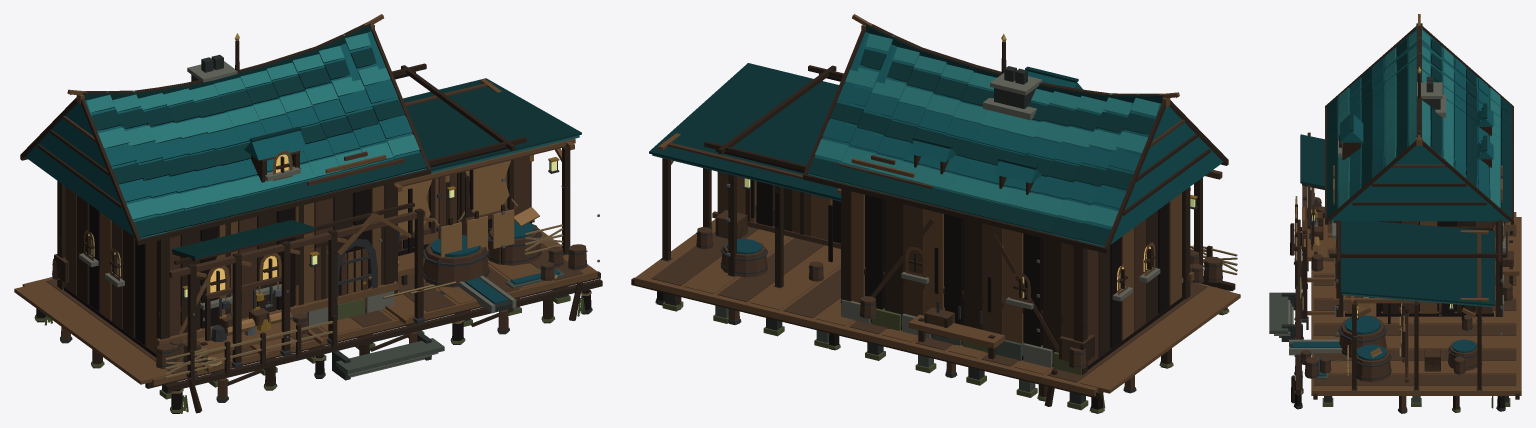
The model's file is fenbridge_hesk_tannery.glb.
The picture shows the model from 3 angles, left to right: view 1: azimuth 30°, elevation 25°; view 2: azimuth 150°, elevation 25°; view 3: azimuth 270°, elevation 25°; orthographic projection. The views are drawn at different scales.
Parts seen in each view (by area): view 1: FenbridgeHeskTannery_FenbridgeOpaque, FenbridgeHeskTannery_FenbridgeEmissive; view 2: FenbridgeHeskTannery_FenbridgeOpaque; view 3: FenbridgeHeskTannery_FenbridgeOpaque.
Boxes of the visible parts, x1,y1,x2,y2 form: FenbridgeHeskTannery_FenbridgeOpaque: (14, 14, 602, 413); FenbridgeHeskTannery_FenbridgeEmissive: (88, 154, 556, 297); FenbridgeHeskTannery_FenbridgeOpaque: (631, 14, 1240, 413); FenbridgeHeskTannery_FenbridgeOpaque: (1269, 14, 1521, 413).
Size of the model in its own units: 12 by 7.2 by 7.
